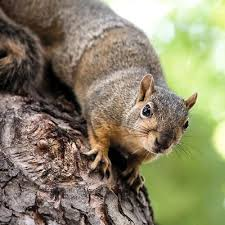squirrel: (75, 14, 199, 180)
